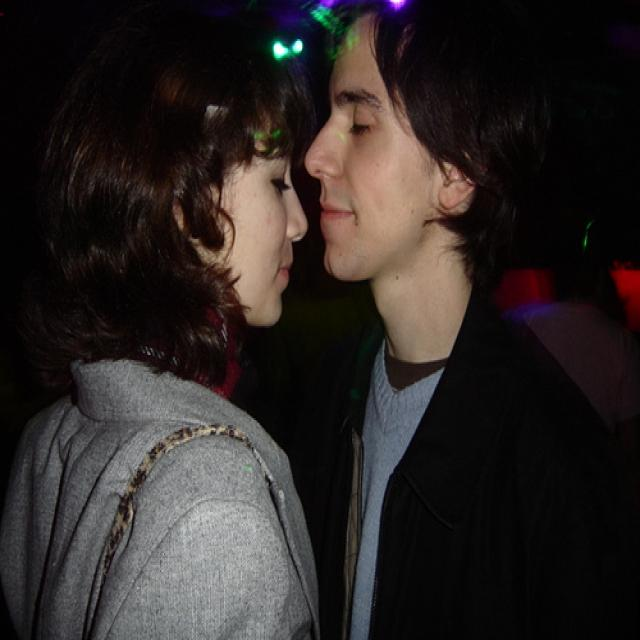person: (1, 13, 321, 639), (305, 5, 607, 640)
